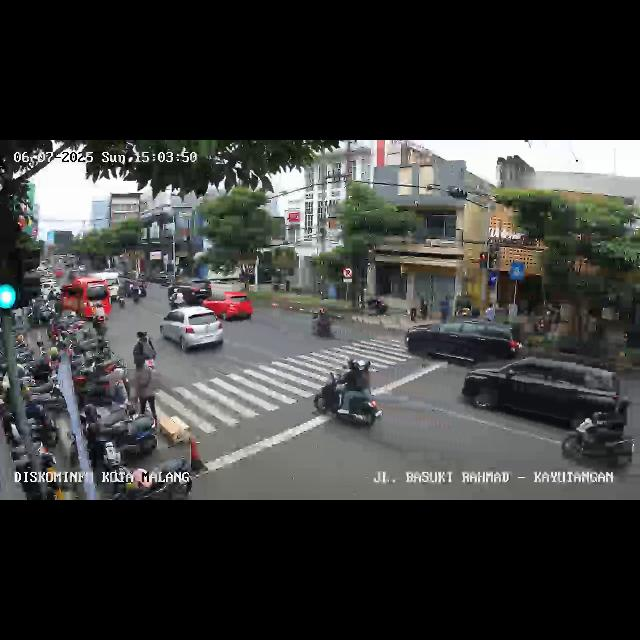car: (462, 357, 626, 438), (406, 315, 526, 369), (160, 306, 224, 356), (58, 277, 110, 325), (202, 292, 255, 322), (168, 278, 210, 306)
motorcycle: (312, 356, 383, 434), (566, 400, 634, 476), (132, 330, 156, 372), (310, 306, 338, 339), (114, 282, 126, 308)
person: (131, 358, 161, 432), (109, 366, 128, 409)
